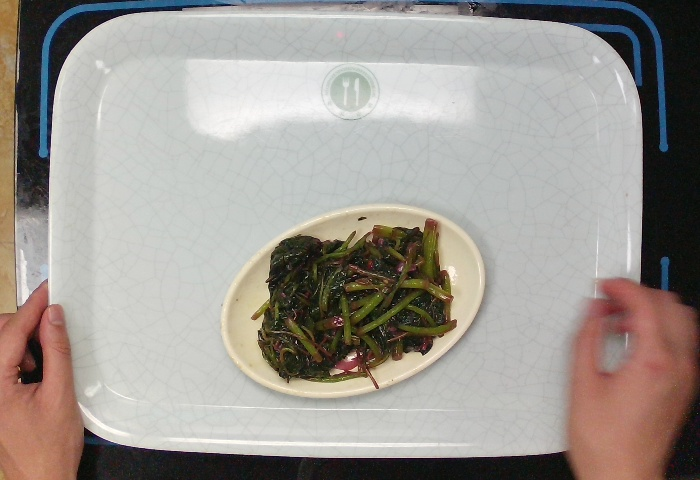JYsf-Tuo_Yuan_Wan: (214, 199, 494, 406)
